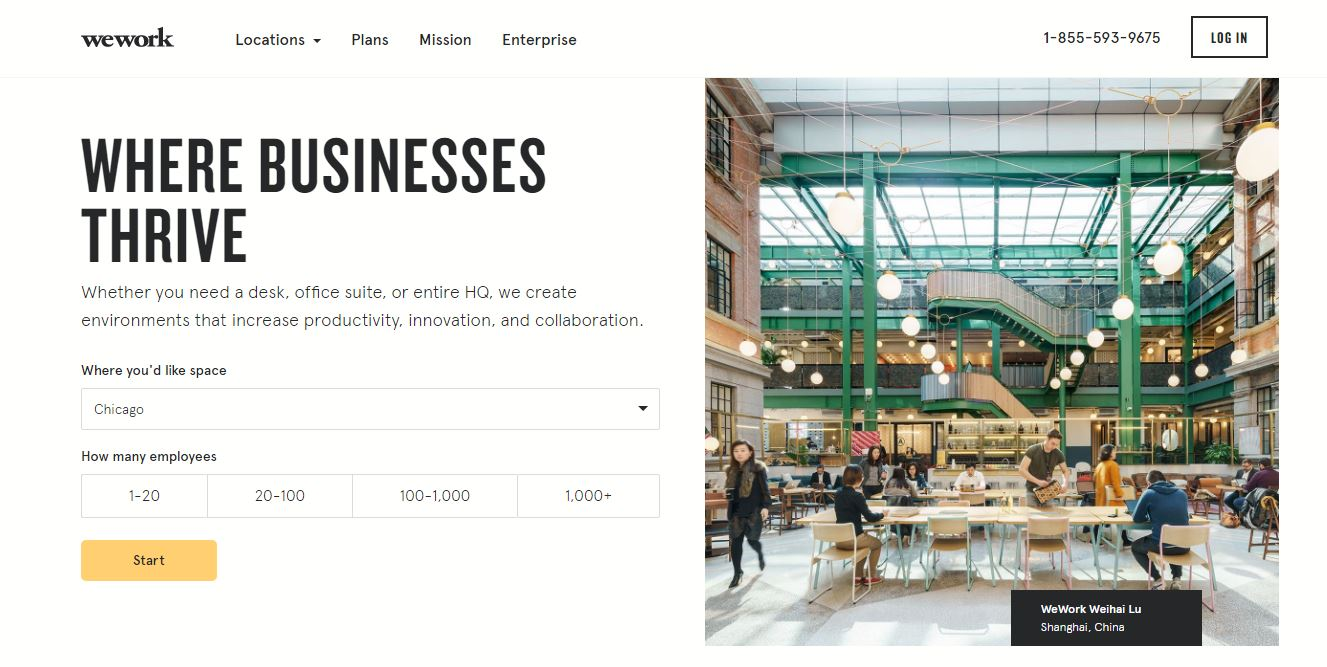wework: (78, 23, 180, 50)
